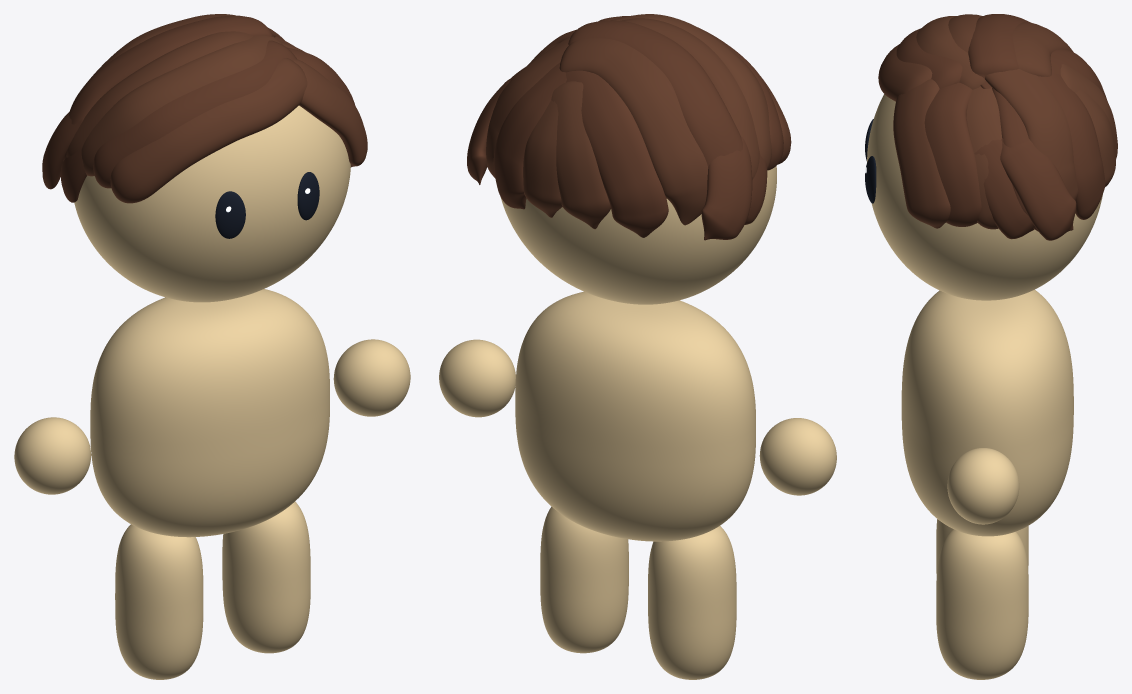
File: Masculine-skin1.glb
The picture shows the model from 3 angles, left to right: view 1: azimuth 30°, elevation 25°; view 2: azimuth 150°, elevation 25°; view 3: azimuth 270°, elevation 25°; orthographic projection. The views are drawn at different scales.
Parts seen in each view (by area): view 1: Skin / compact torso, Skin / soft oval head, Skin / leg -1, Skin / leg 1, Hair / Main sweep 0, Hair / Main sweep 2, Hair / Main sweep 1, Skin / hand -1, Skin / hand 1, Hair / Crown sweep, Hair / Main sweep 3, Hair / Short side 0 (+6 smaller); view 2: Skin / compact torso, Skin / soft oval head, Skin / leg -1, Skin / leg 1, Hair / Back sweep 0, Hair / Back sweep 1, Hair / Crown sweep, Hair / Back sweep 2, Skin / hand 1, Skin / hand -1, Hair / Back sweep 4, Hair / Temple -1 1 (+7 smaller); view 3: Skin / compact torso, Skin / soft oval head, Skin / leg 1, Hair / Short side 1, Hair / Short side 0, Hair / Back sweep 3, Hair / Temple 1 1, Skin / hand 1, Hair / Back sweep 4, Hair / Crown sweep, Hair / Temple 1 0, Hair / Short side 2 (+11 smaller).
Boxes of the visible parts, bbox=[...] form: Skin / compact torso: bbox=[90, 289, 329, 537]; Skin / soft oval head: bbox=[74, 105, 350, 302]; Skin / leg -1: bbox=[115, 524, 203, 679]; Skin / leg 1: bbox=[222, 501, 310, 653]; Hair / Main sweep 0: bbox=[110, 58, 307, 203]; Hair / Main sweep 2: bbox=[81, 35, 282, 176]; Hair / Main sweep 1: bbox=[93, 40, 296, 188]; Skin / hand -1: bbox=[14, 417, 91, 494]; Skin / hand 1: bbox=[333, 339, 410, 416]; Hair / Crown sweep: bbox=[63, 15, 272, 161]; Hair / Main sweep 3: bbox=[66, 31, 253, 157]; Hair / Short side 0: bbox=[293, 59, 367, 167]; Skin / compact torso: bbox=[515, 291, 755, 541]; Skin / soft oval head: bbox=[500, 166, 776, 304]; Skin / leg -1: bbox=[648, 526, 736, 679]; Skin / leg 1: bbox=[540, 506, 628, 653]; Hair / Back sweep 0: bbox=[559, 38, 708, 225]; Hair / Back sweep 1: bbox=[566, 70, 668, 237]; Hair / Crown sweep: bbox=[568, 20, 742, 166]; Hair / Back sweep 2: bbox=[551, 81, 610, 229]; Skin / hand 1: bbox=[439, 339, 515, 417]; Skin / hand -1: bbox=[759, 418, 836, 495]; Hair / Back sweep 4: bbox=[493, 62, 566, 209]; Hair / Temple -1 1: bbox=[701, 136, 752, 240]; Skin / compact torso: bbox=[901, 289, 1073, 536]; Skin / soft oval head: bbox=[867, 94, 1102, 300]; Skin / leg 1: bbox=[936, 529, 1028, 679]; Hair / Short side 1: bbox=[924, 82, 981, 226]; Hair / Short side 0: bbox=[893, 79, 950, 228]; Hair / Back sweep 3: bbox=[985, 69, 1078, 200]; Hair / Temple 1 1: bbox=[1000, 138, 1076, 240]; Skin / hand 1: bbox=[947, 448, 1019, 524]; Hair / Back sweep 4: bbox=[1039, 73, 1105, 219]; Hair / Crown sweep: bbox=[968, 14, 1030, 88]; Hair / Temple 1 0: bbox=[974, 139, 1034, 239]; Hair / Short side 2: bbox=[966, 87, 1001, 229].
Bounding box in the file's own units: 1.49 × 2.32 × 0.8581.
